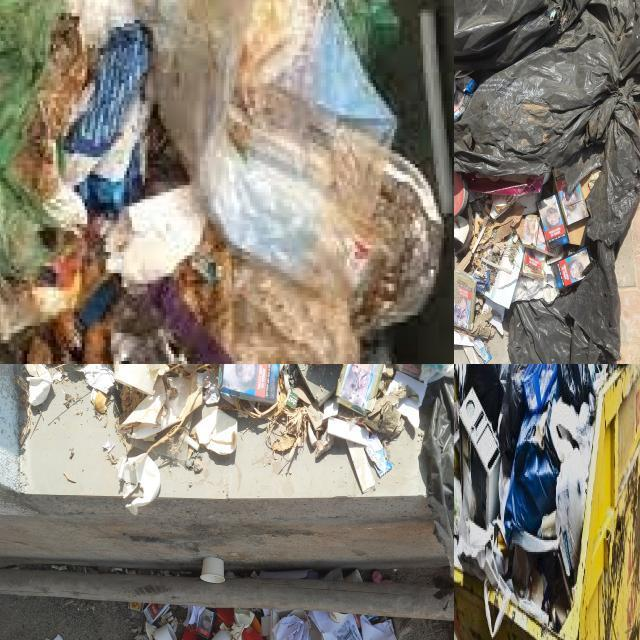Cig_pack: (218, 364, 280, 405), (336, 364, 384, 416), (537, 194, 569, 253), (144, 603, 170, 624), (197, 608, 214, 640), (395, 364, 422, 378)
E_waste: (460, 385, 499, 527)
Garbage: (75, 364, 454, 599), (454, 0, 640, 364), (454, 364, 619, 636), (129, 599, 413, 640), (201, 557, 231, 583)
Plastic: (523, 364, 558, 413)
Plastic_Bag: (505, 413, 558, 548), (555, 446, 591, 576), (498, 364, 528, 474), (465, 364, 506, 430), (150, 414, 193, 461), (558, 364, 592, 413), (129, 426, 174, 451)
Thermocol: (211, 629, 230, 640)
